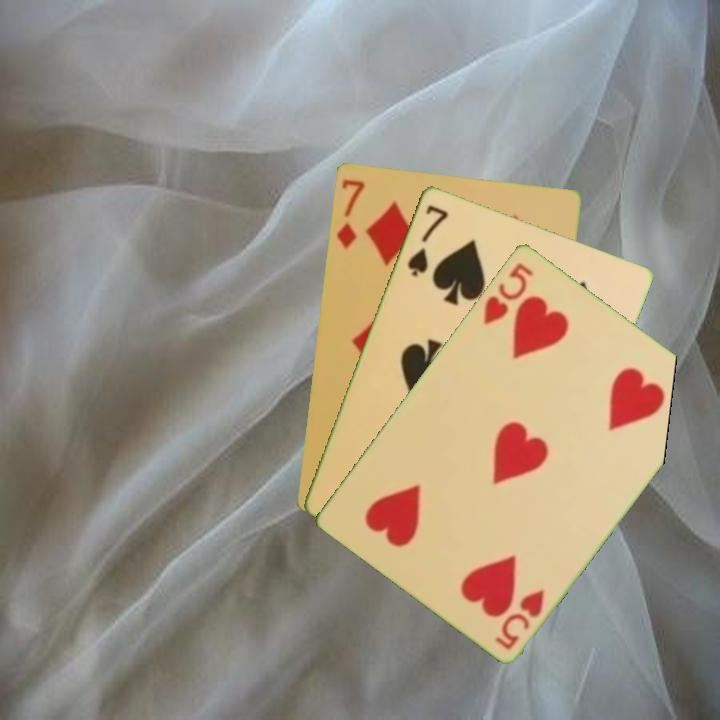5h: (479, 258, 536, 328), (492, 584, 548, 652)
7d: (333, 175, 367, 251)
7s: (403, 200, 451, 279)
